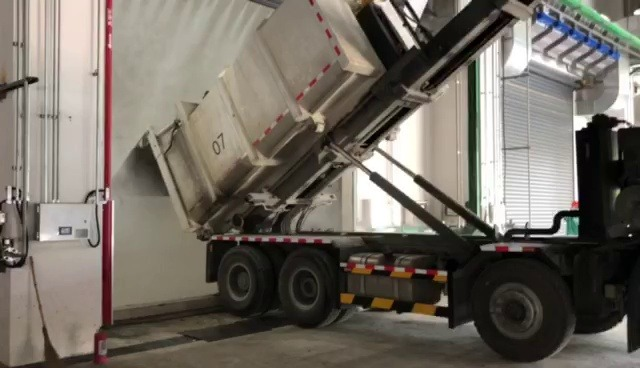dust: (109, 63, 220, 297)
truck: (154, 0, 639, 368)
